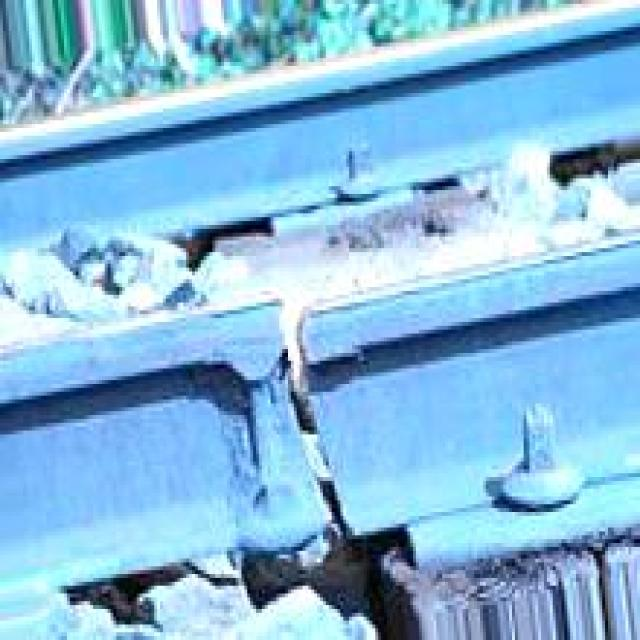crack: (228, 282, 387, 562)
